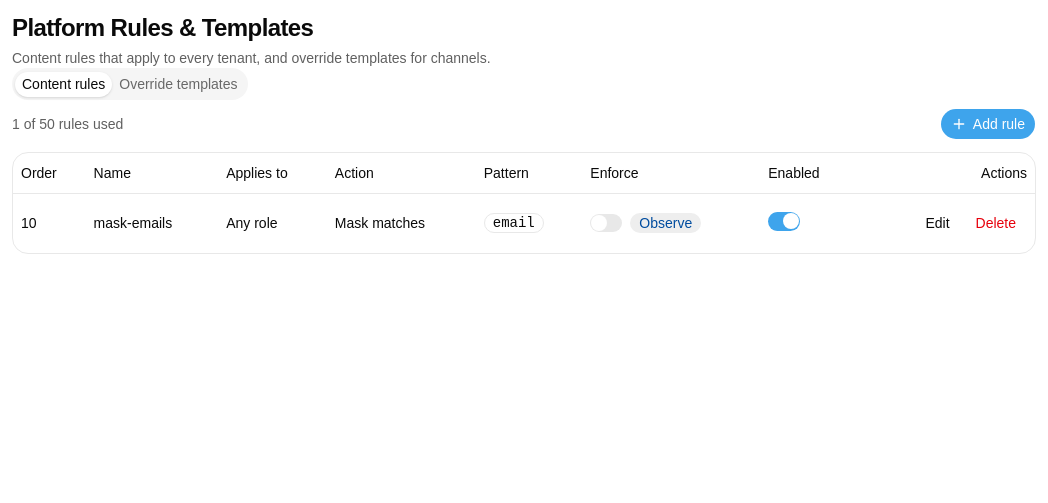
Test: override templates › a failed template read is an error, not an empty list
What coordinates should you click on to do the following:
click the tab "Override templates"
I would click on:
 (178, 84)
Its box is left=112, top=72, right=245, bottom=96.
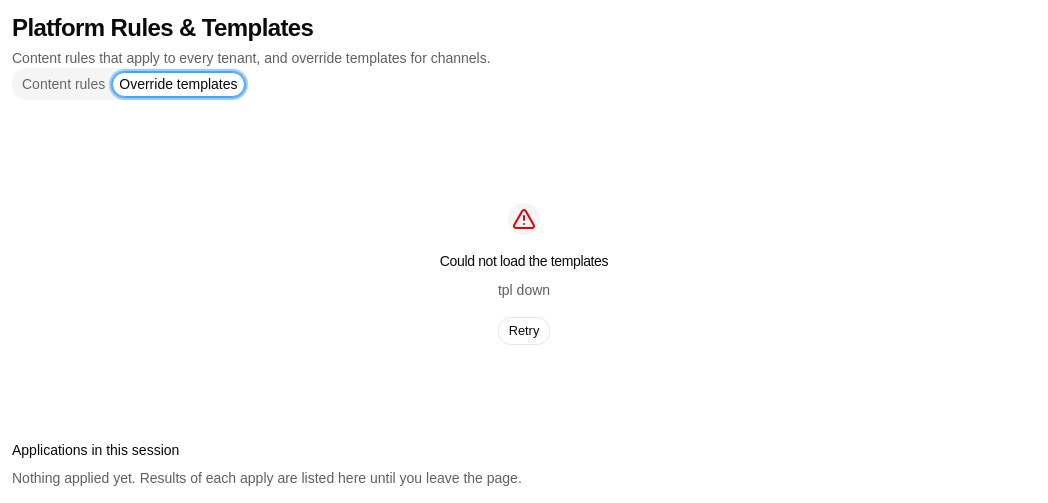
expect the text "Could not load the templates" is shown: met, box left=440, top=251, right=608, bottom=271
